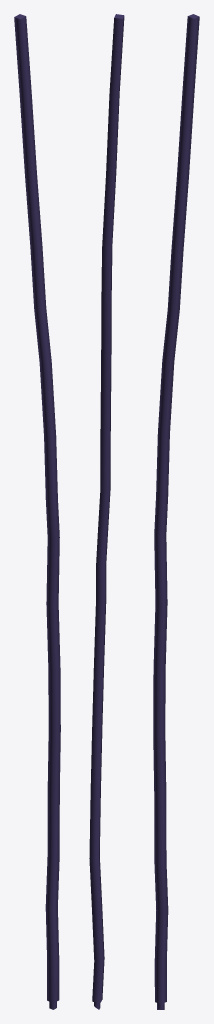
File: CableHanging_Thin_04.fbx
3 renders of one model, left to right at view 1: azimuth 90°, elevation 25°; view 2: azimuth 210°, elevation 25°; view 3: azimuth 270°, elevation 25°, orthographic.
Visible parts, largest first — view 1: CableHanging_Thin_04.001; view 2: CableHanging_Thin_04.001; view 3: CableHanging_Thin_04.001.
Part boxes in pixels (left/top/right/bottom): CableHanging_Thin_04.001: left=14, top=14, right=60, bottom=1009; CableHanging_Thin_04.001: left=89, top=14, right=124, bottom=1009; CableHanging_Thin_04.001: left=153, top=14, right=199, bottom=1009.
Bounding box in the file's own units: 0.0339 × 1.58 × 0.0674.
